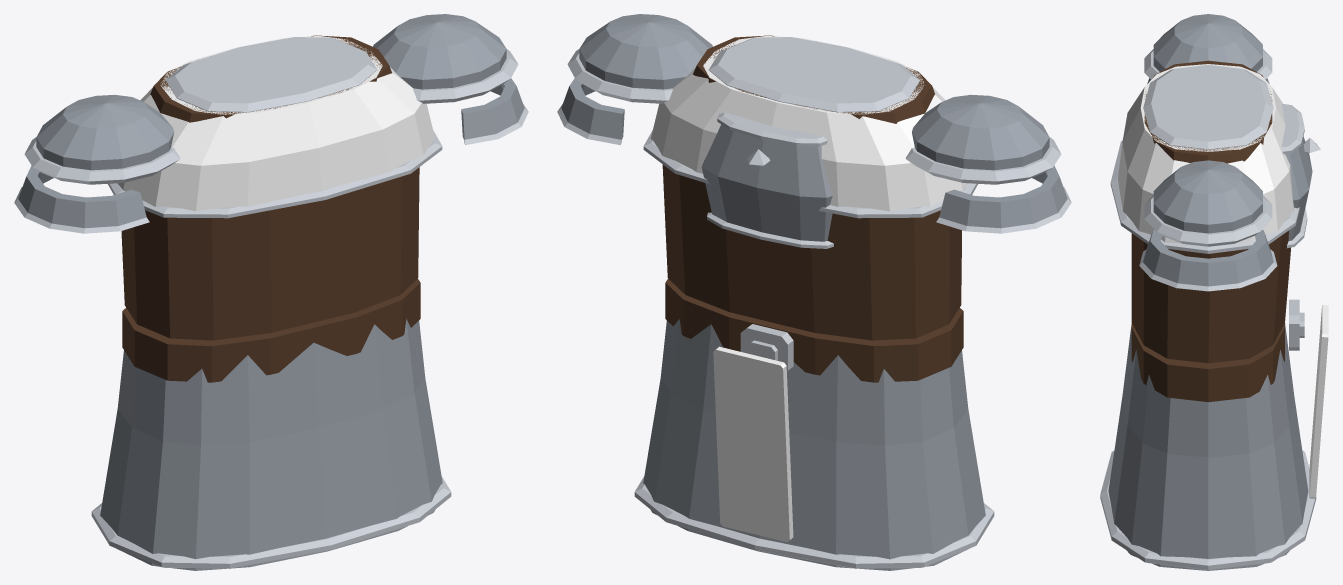
The model's file is look3_armor_healer_normal.fbx.
3 renders of one model, left to right at view 1: azimuth 30°, elevation 25°; view 2: azimuth 150°, elevation 25°; view 3: azimuth 270°, elevation 25°, orthographic. The views are drawn at different scales.
Visible parts, largest first — view 1: Main, Tasset; view 2: Main, Tasset; view 3: Main, Tasset.
Boxes of the visible parts, left/top/right/bottom form: Main: left=14, top=14, right=528, bottom=382; Tasset: left=91, top=319, right=451, bottom=570; Main: left=557, top=14, right=1071, bottom=382; Tasset: left=634, top=319, right=994, bottom=570; Main: left=1110, top=14, right=1320, bottom=402; Tasset: left=1100, top=305, right=1328, bottom=570.
Bounding box in the file's own units: 397 × 344 × 175.
